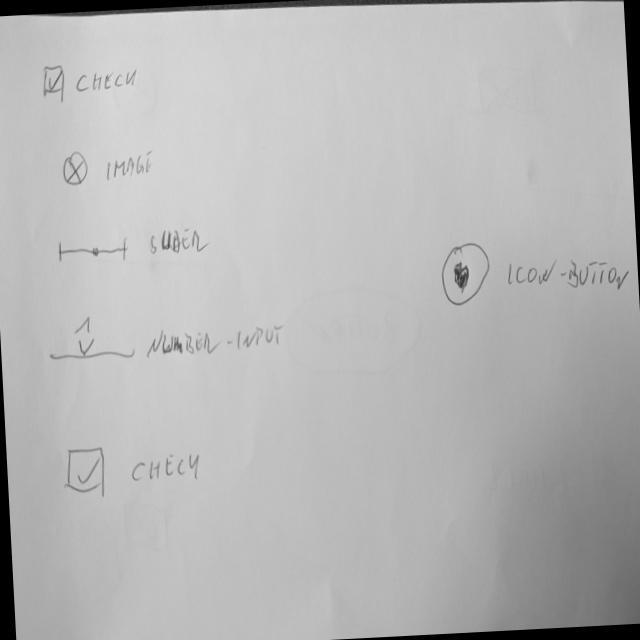checkbox: (64, 439, 206, 497), (42, 60, 142, 101)
icon-button: (441, 242, 495, 309)
image: (61, 148, 91, 190)
slider: (56, 236, 136, 267)
